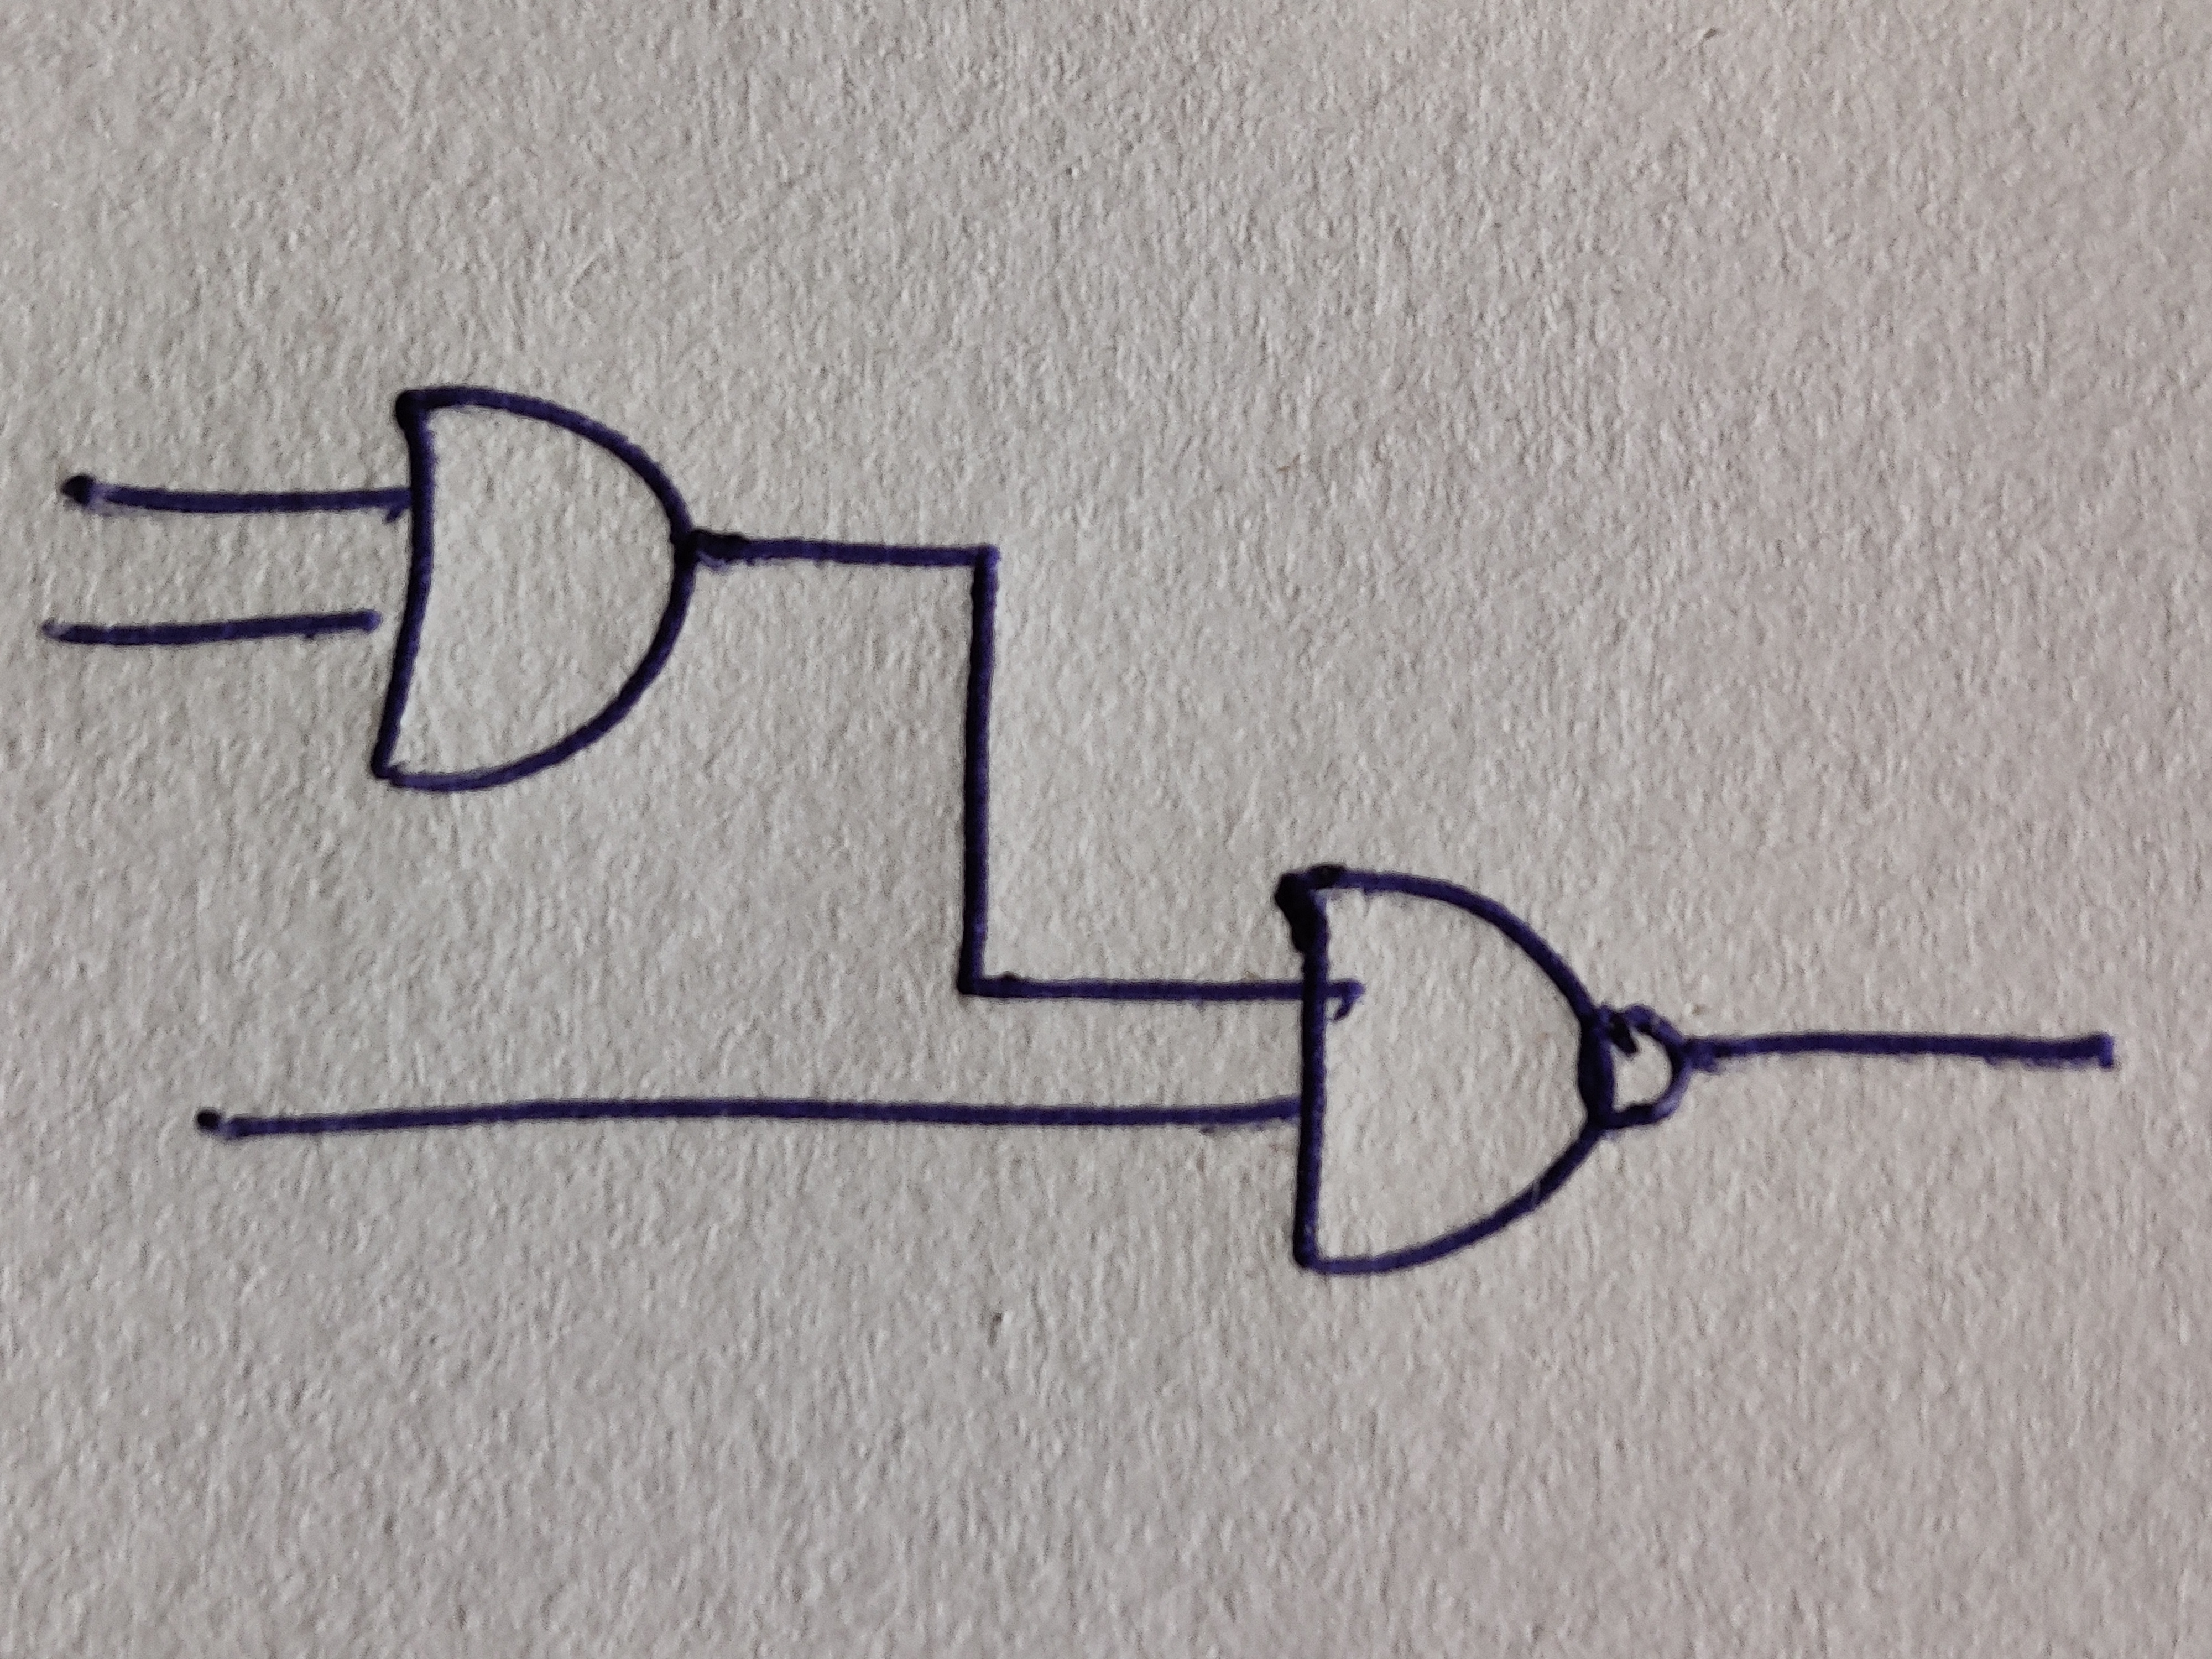and: (1275, 866, 1616, 1277), (361, 385, 698, 791)
not: (1587, 1007, 1691, 1126)
